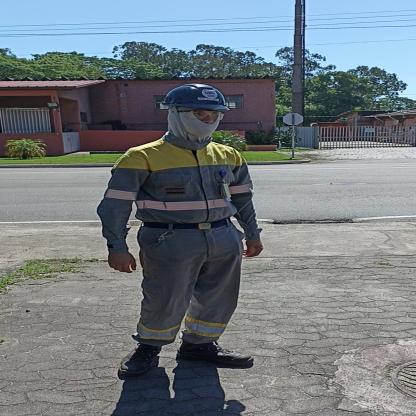Balaclava: (165, 104, 222, 142)
Capacete: (166, 82, 227, 108)
